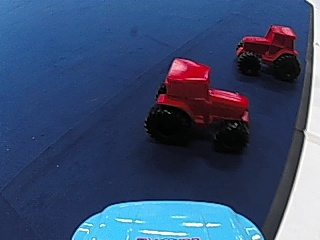tractor: (147, 53, 255, 154), (234, 22, 304, 81)
